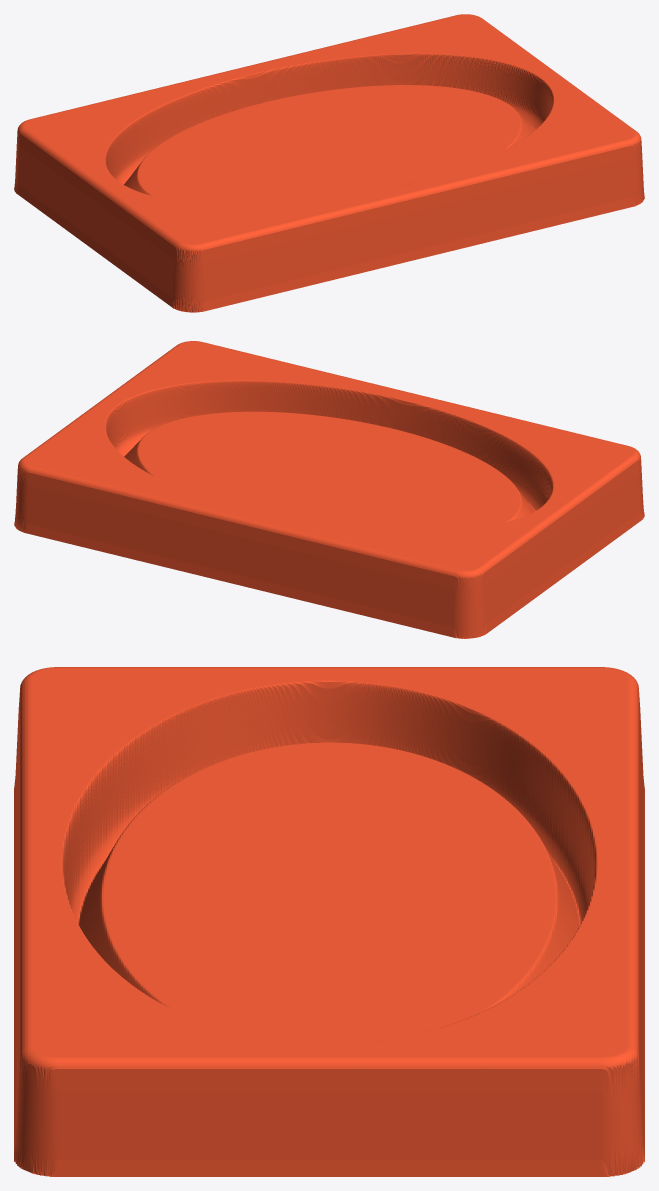
The model's file is mold.glb.
3 renders of one model, top to bottom at view 1: azimuth 30°, elevation 25°; view 2: azimuth 150°, elevation 25°; view 3: azimuth 270°, elevation 25°, orthographic. The views are drawn at different scales.
Parts seen in each view (by area): view 1: geometry_0; view 2: geometry_0; view 3: geometry_0.
Boxes of the visible parts, x1,y1,x2,y2 form: geometry_0: (14, 14, 644, 312); geometry_0: (14, 341, 644, 638); geometry_0: (14, 667, 644, 1176).
Bounding box in the file's own units: 0.1985 × 0.0258 × 0.1312.
